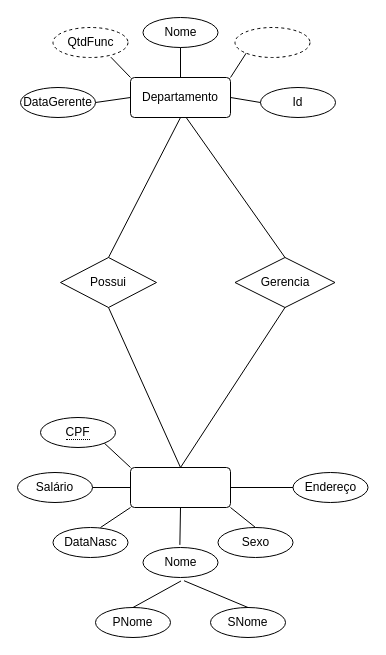
The diagram is 386 pixels wide and 655 high, and some of its shapes have lost their labels. Here are the shapes that lost their labels. From the top down, the box of each, then its label:
(234, 26, 310, 58): IdGerente
(130, 466, 230, 508): Funcionário
